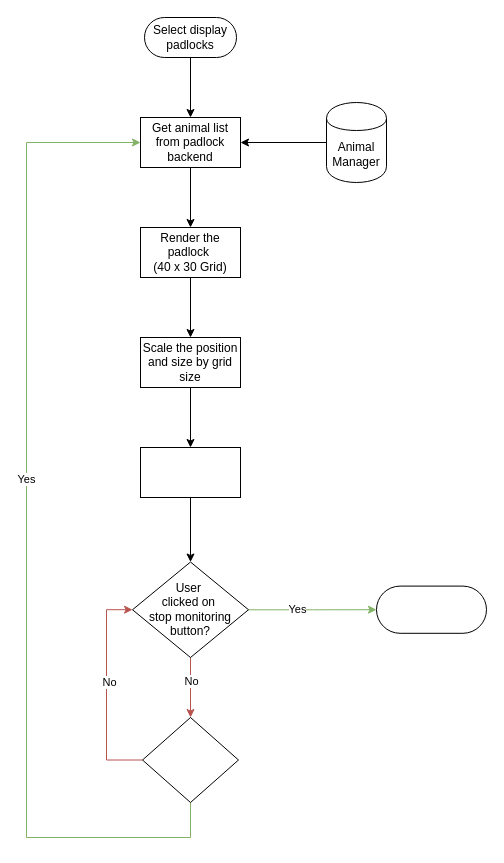
Some shapes in this 504 by 863 pixel diagram are drawn without their labels. Here are the shapes that lost their labels. From the top down, the box of each, then its label:
(140, 446, 240, 498): Render animal token
(376, 585, 486, 633): Stop Monitoring Animals
(142, 716, 238, 802): 60 seconds have passed?
